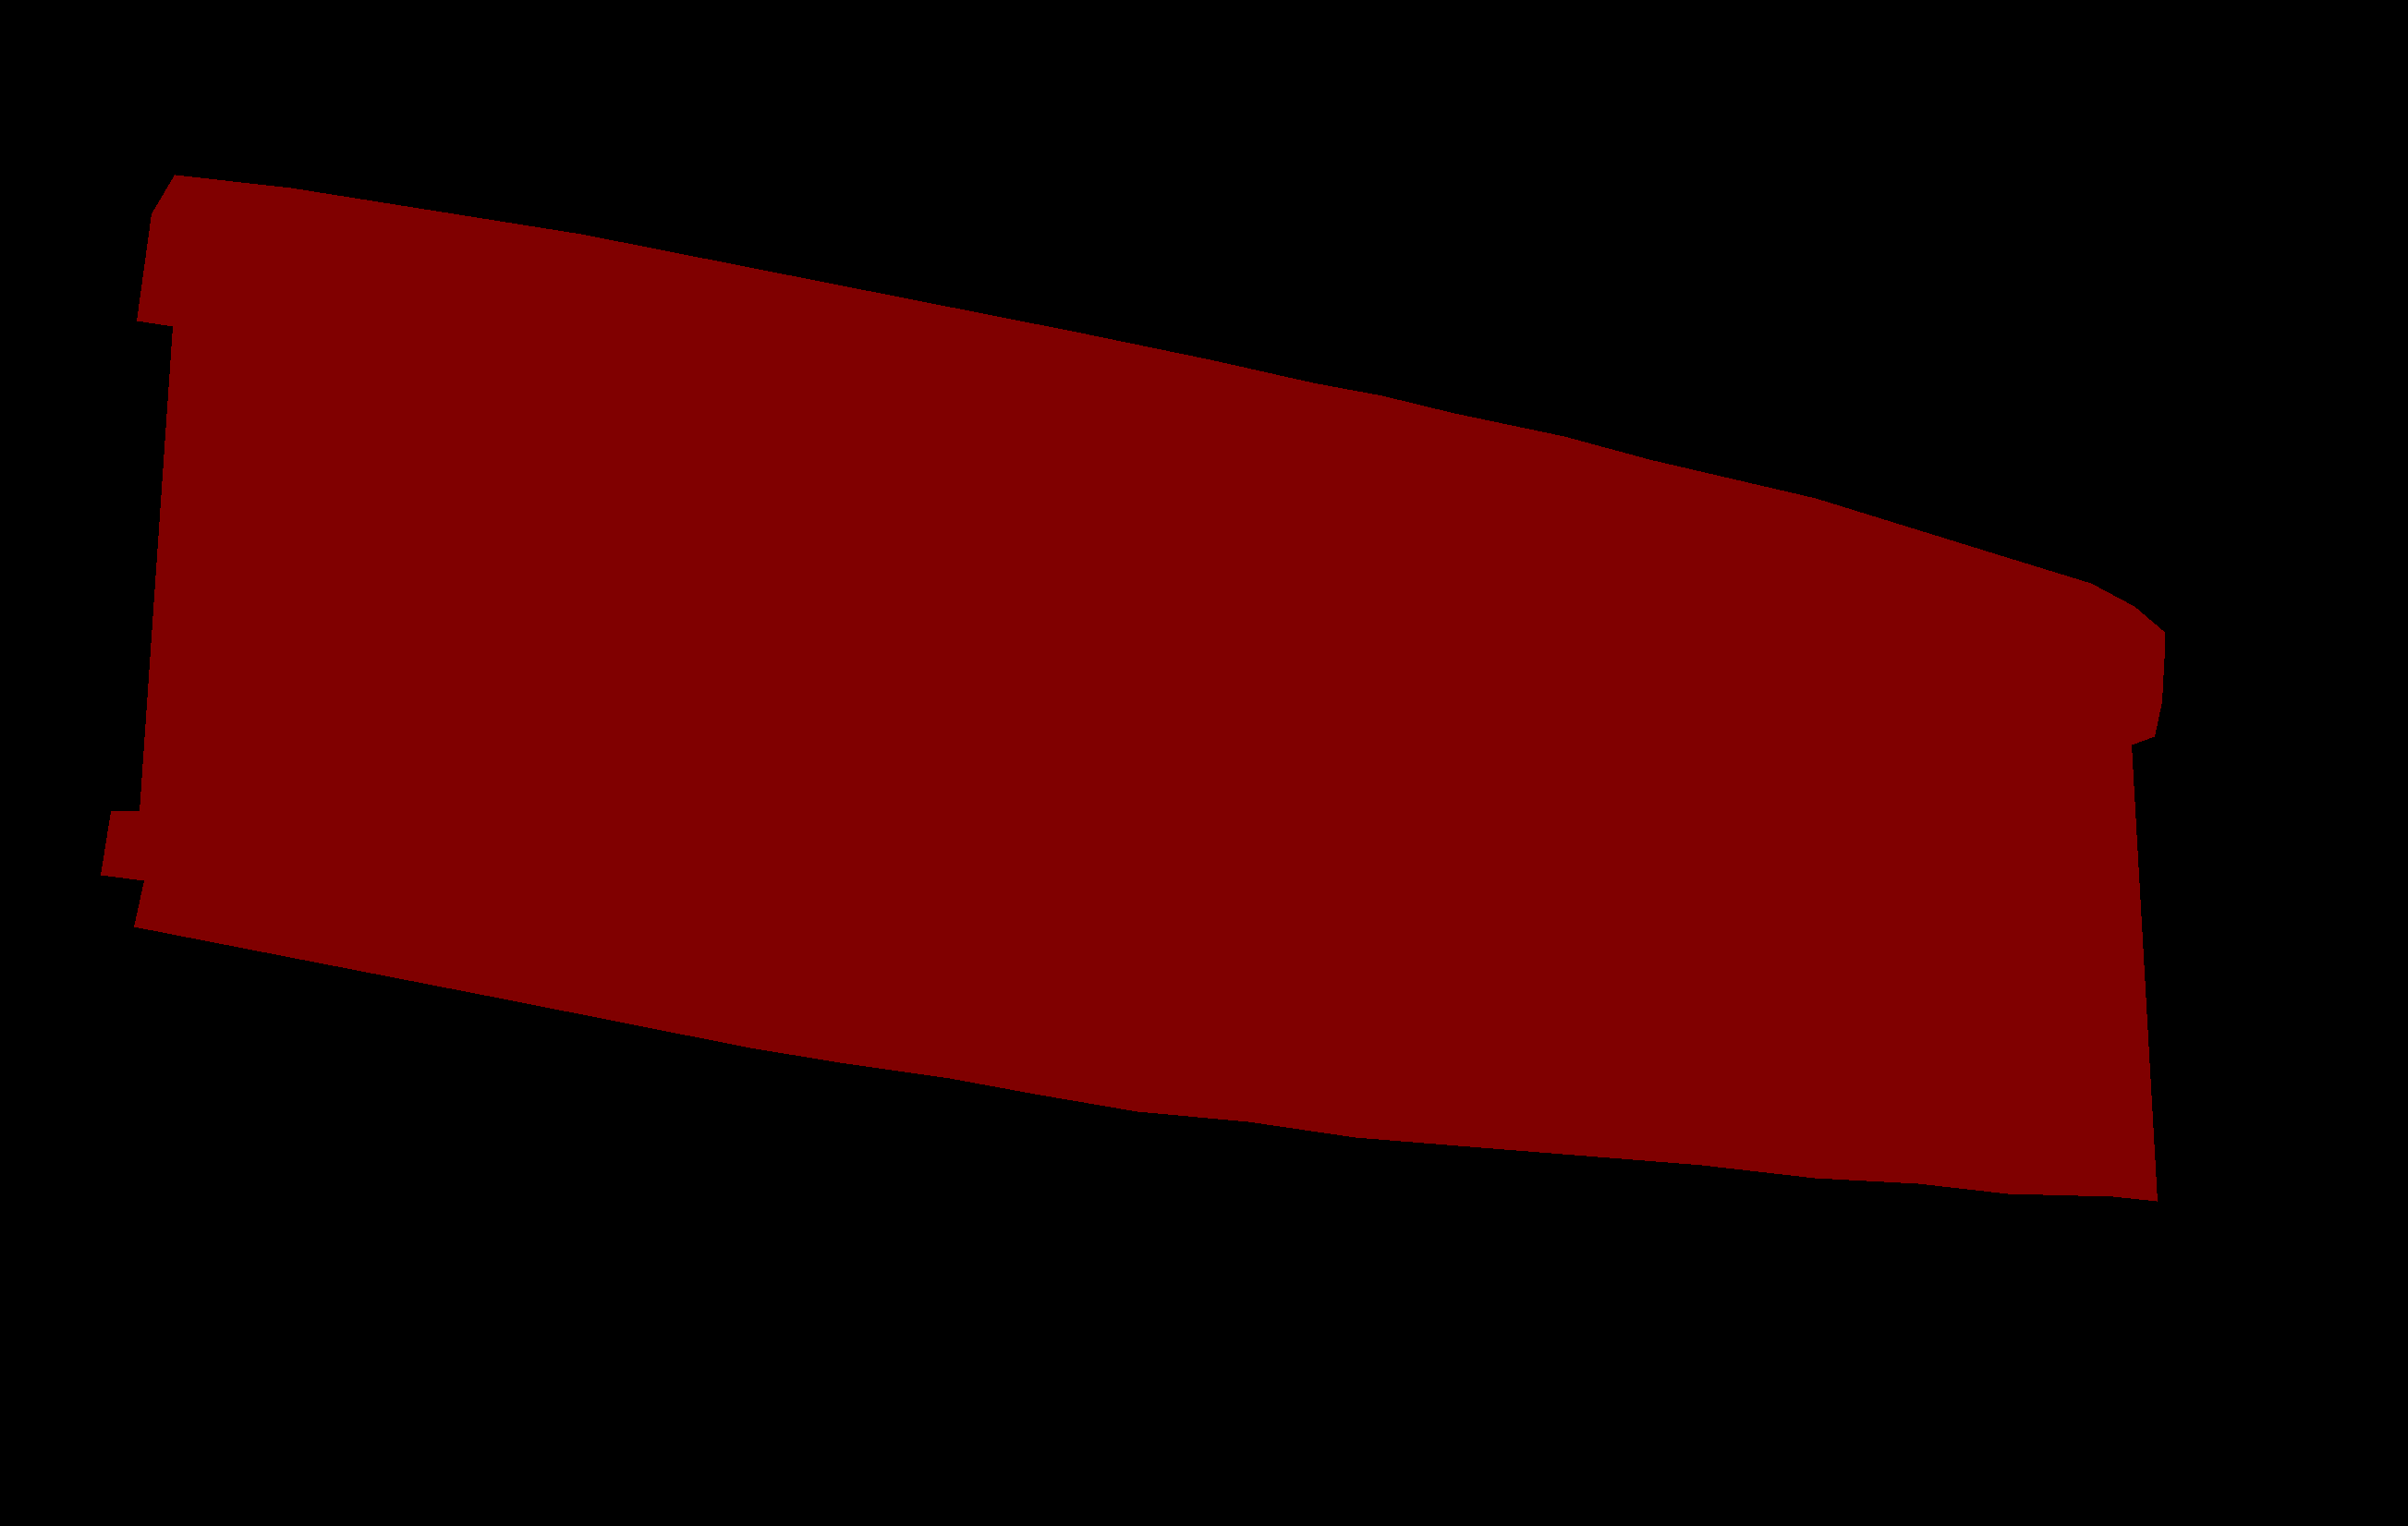sign: (100, 175, 2164, 1202)
